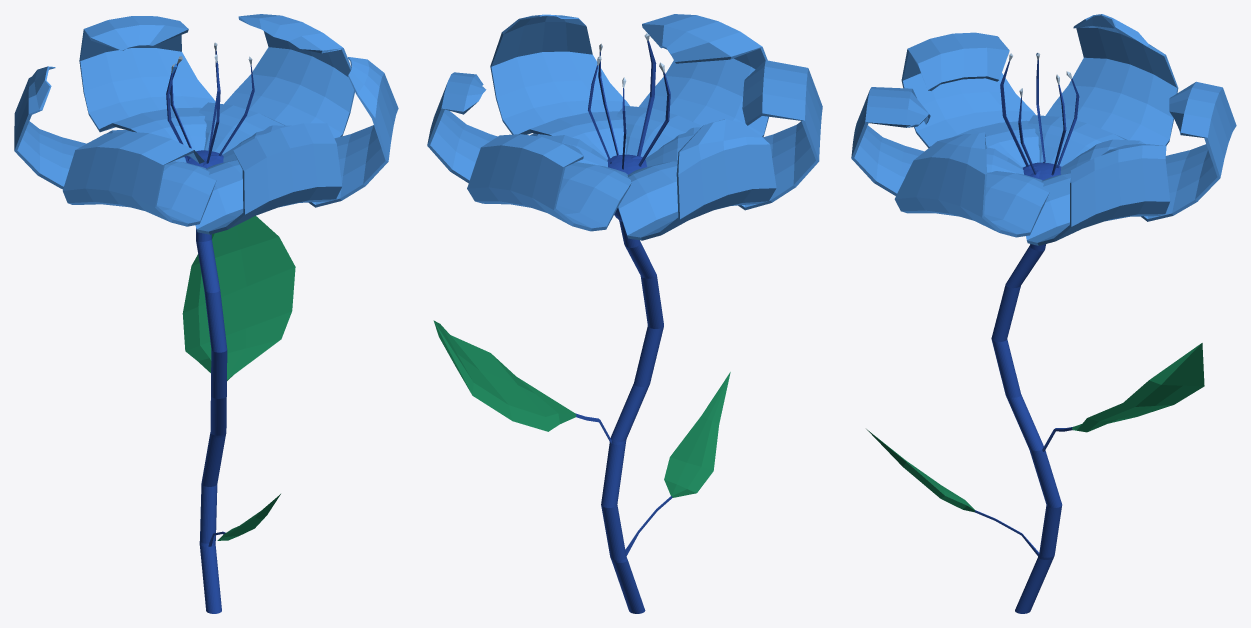
Rendered from WaterLilly.fbx.
The picture shows the model from 3 angles, left to right: view 1: azimuth 30°, elevation 25°; view 2: azimuth 150°, elevation 25°; view 3: azimuth 270°, elevation 25°; orthographic projection. The views are drawn at different scales.
Parts seen in each view (by area): view 1: Wave Pedals, Stamm Wave; view 2: Wave Pedals, Stamm Wave; view 3: Wave Pedals, Stamm Wave.
Boxes of the visible parts, <box> form: Wave Pedals: <box>14,14,398,234</box>; Stamm Wave: <box>166,42,295,613</box>; Wave Pedals: <box>427,14,822,240</box>; Stamm Wave: <box>433,33,730,613</box>; Wave Pedals: <box>851,14,1236,245</box>; Stamm Wave: <box>866,53,1204,613</box>.
Size of the model in its own units: 596 by 953 by 599.
